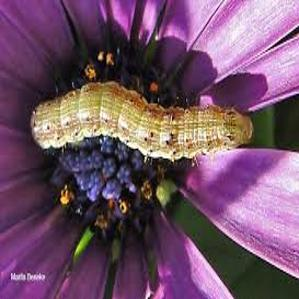Cotton bollworm: (26, 78, 264, 186)
